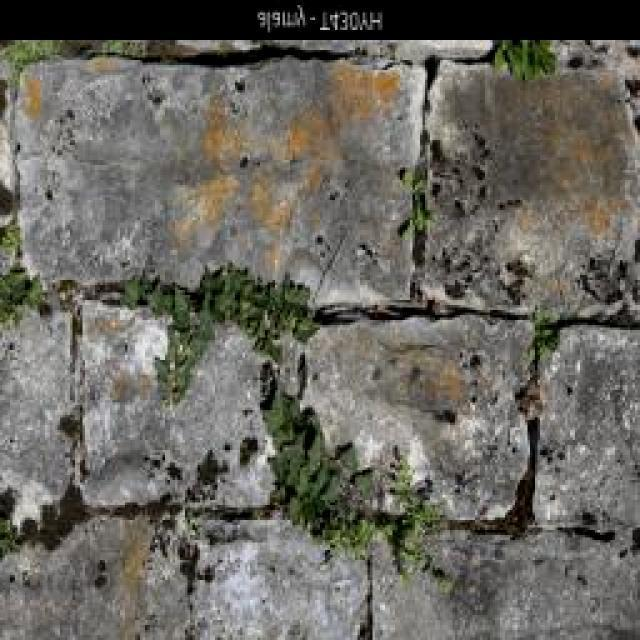corrosion: (1, 41, 638, 636)
crack: (0, 247, 630, 551), (16, 38, 468, 118)
vegetation: (64, 254, 447, 586)
